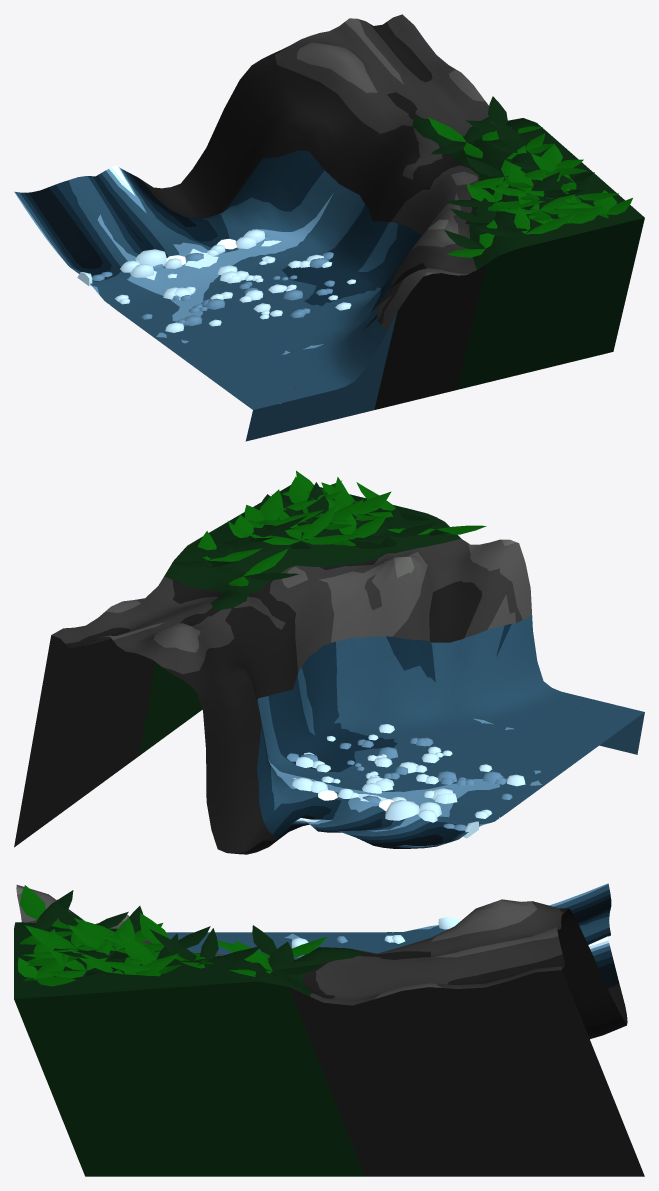
File: torm_fall_br_276.glb
3 views of the same model, one above another, from view 1: azimuth 30°, elevation 25°; view 2: azimuth 150°, elevation 25°; view 3: azimuth 270°, elevation 25° (orthographic). The views are drawn at different scales.
Visible parts, largest first — view 1: torm_fall_br_276; view 2: torm_fall_br_276; view 3: torm_fall_br_276.
Boxes of the visible parts, left/top/right/bottom form: torm_fall_br_276: left=14, top=14, right=644, bottom=441; torm_fall_br_276: left=14, top=470, right=644, bottom=854; torm_fall_br_276: left=14, top=883, right=644, bottom=1176.
Bounding box in the file's own units: 24 × 12.18 × 31.57.
